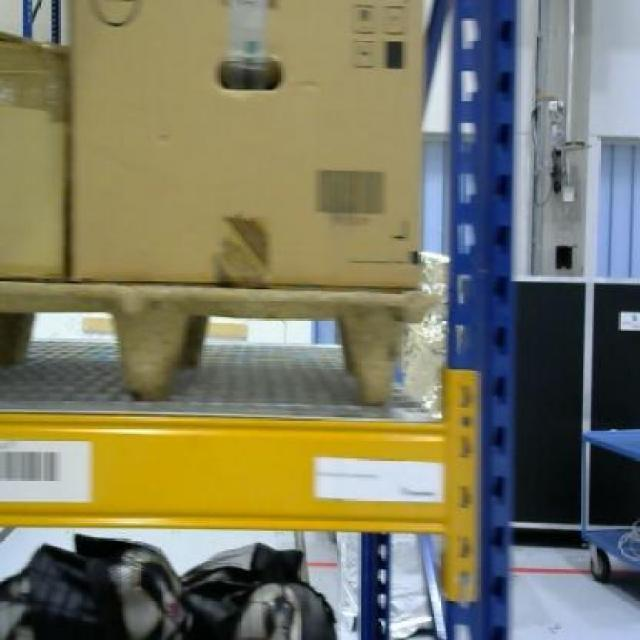box: (68, 0, 426, 289), (0, 34, 66, 282)
